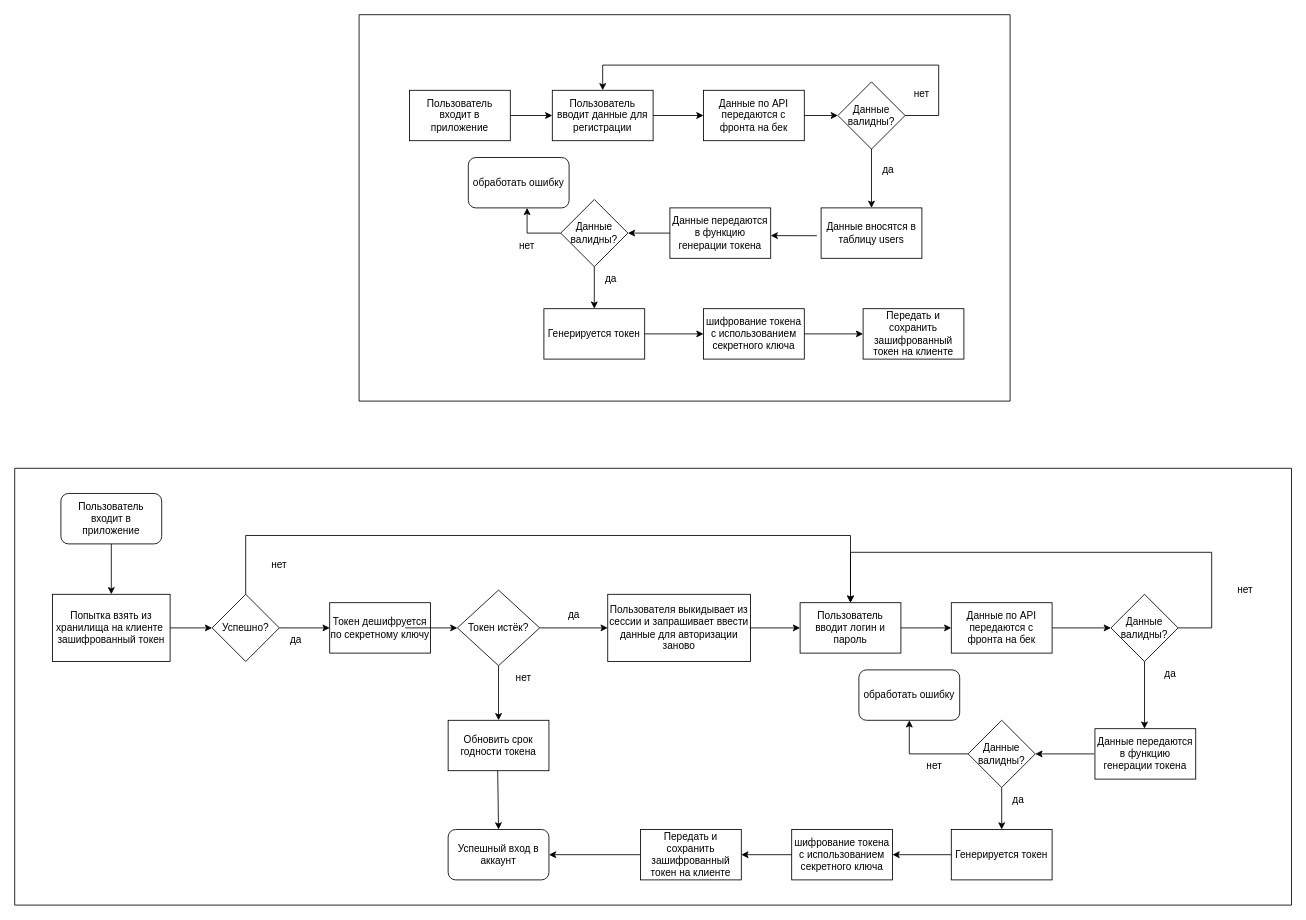
This 1306x920 diagram has some shape labels left out. The box of each missing label's shape, as (x1, y1, x2, y2) in pixels:
Авторизация: (14, 467, 1292, 905)
Регистрация: (358, 14, 1010, 401)
